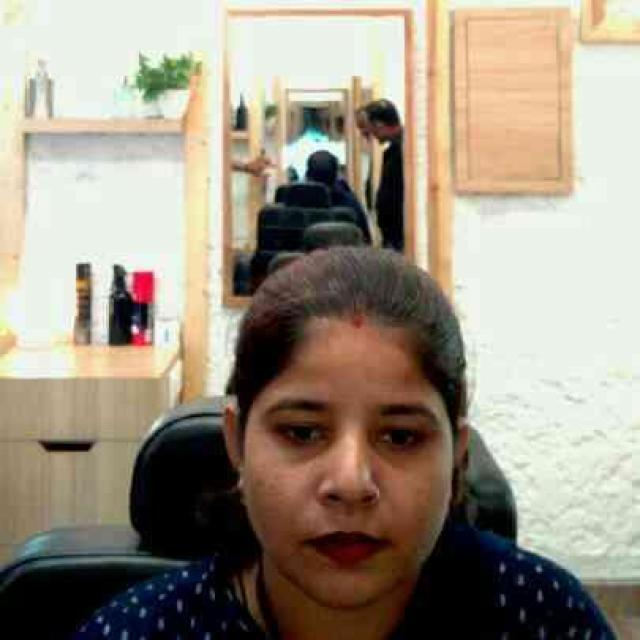Puffy Eyes - v3 Dark Circle: (287, 446, 328, 465), (372, 447, 406, 469)
